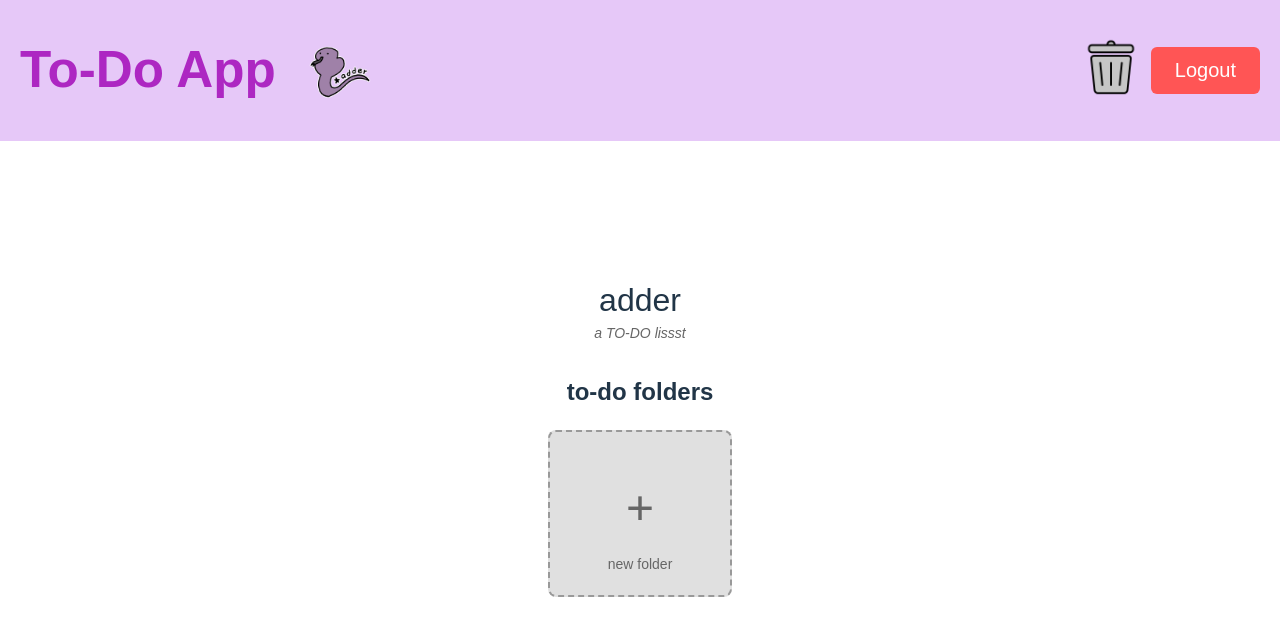
Test: click create new folder
The width and height of the screenshot is (1280, 629).
Click the text "new folder": [640, 565] box [608,554,672,575]
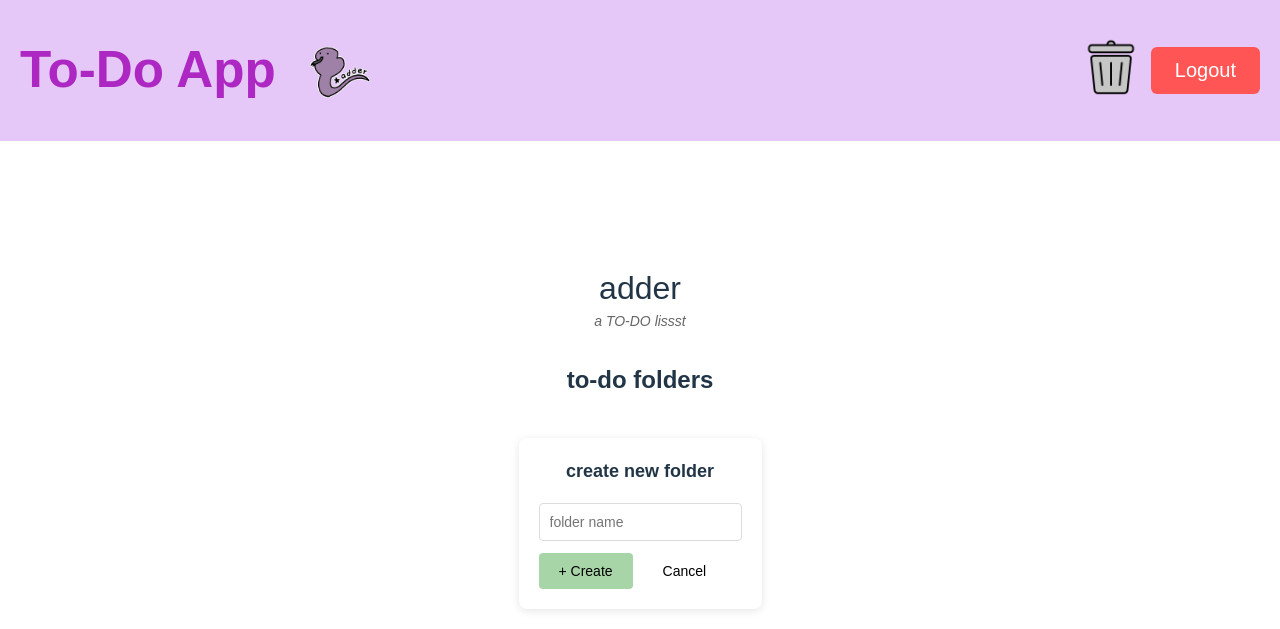
Now the heading "create new folder" is shown, box [566,461,714,481]
Now the field with placeholder "folder name" is shown, box [538,503,742,541]
Now the button "+ Create" is shown, box [538,553,633,589]
